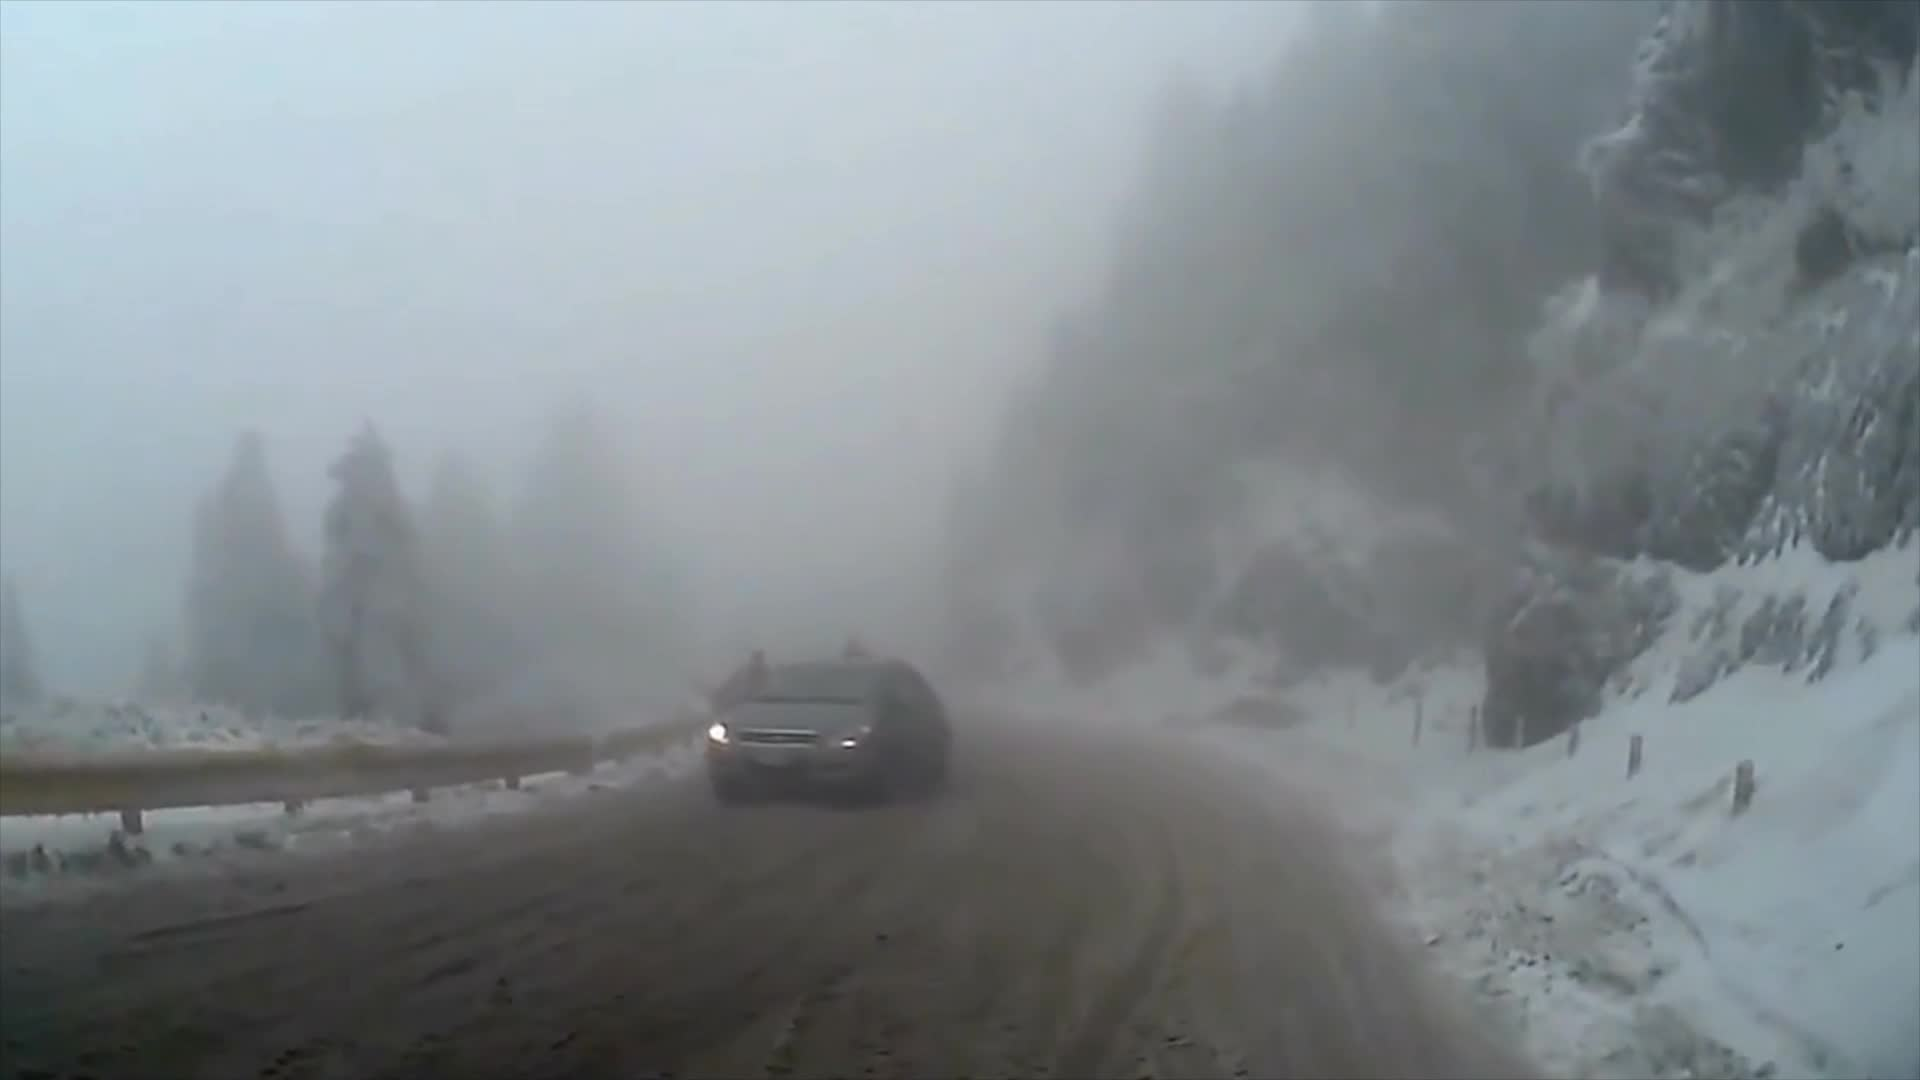vehicle: (705, 659, 952, 807)
